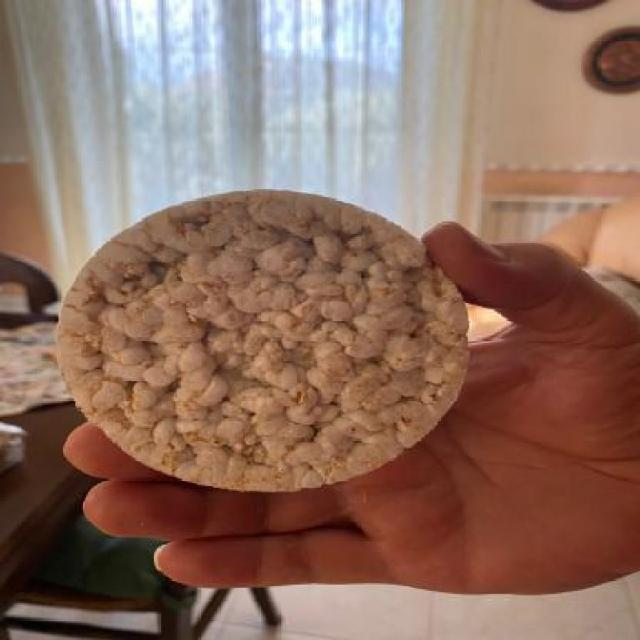Gallette di riso packaged: (51, 189, 482, 489)
